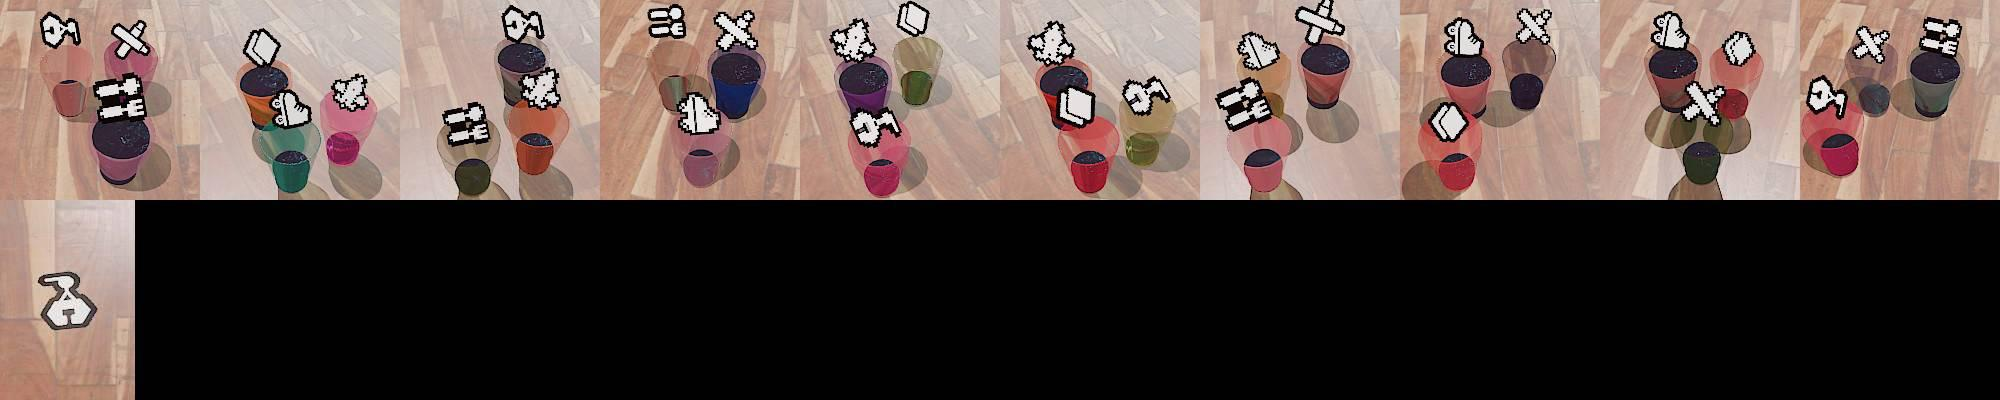icon: (36, 269, 100, 331), (1215, 77, 1273, 132), (93, 71, 149, 122), (441, 99, 491, 147), (829, 16, 878, 63), (1296, 0, 1347, 45), (848, 105, 902, 147), (1026, 19, 1075, 65), (1123, 74, 1174, 116), (712, 9, 760, 53), (1682, 79, 1726, 126), (1806, 75, 1850, 119), (518, 67, 563, 110), (678, 91, 721, 135), (1056, 83, 1096, 129), (1443, 16, 1485, 59), (1919, 16, 1962, 58), (1237, 31, 1281, 72), (501, 4, 544, 44), (269, 89, 313, 128), (1651, 10, 1691, 52), (1429, 101, 1469, 142), (242, 27, 282, 68), (1851, 25, 1892, 64), (110, 20, 151, 59), (331, 72, 370, 112), (40, 12, 81, 50), (1515, 7, 1553, 46), (647, 3, 687, 39), (1720, 30, 1756, 67), (896, 1, 930, 38)
